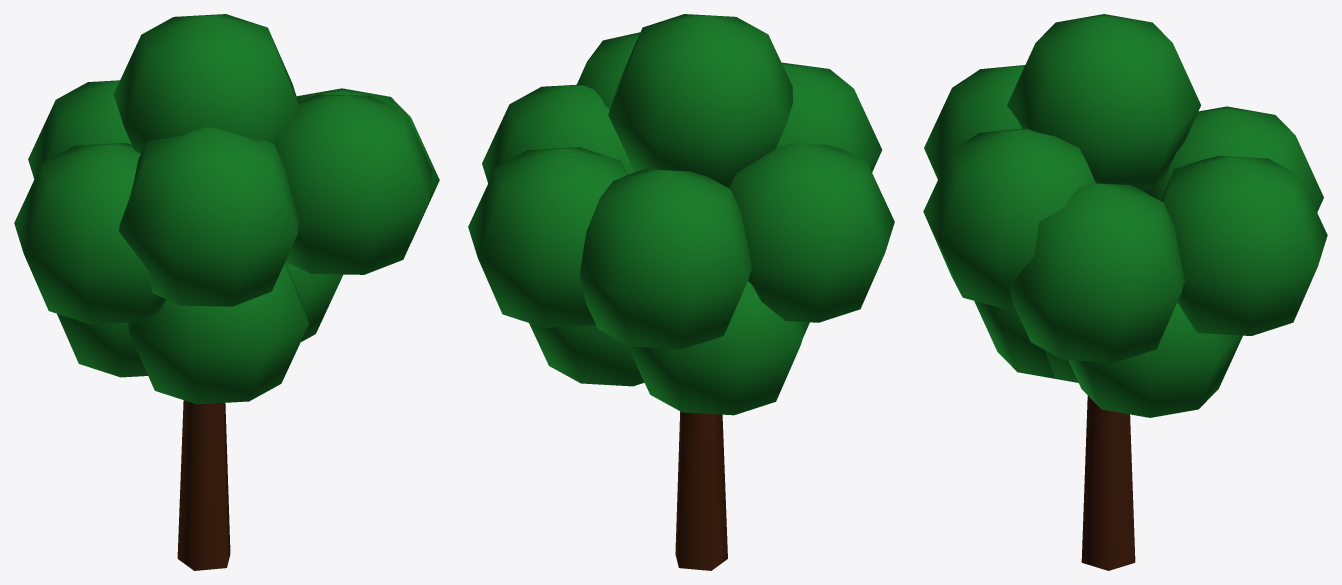
The model's file is ArvoreMario.FBX.
3 views of the same model, side by side, from view 1: azimuth 30°, elevation 25°; view 2: azimuth 150°, elevation 25°; view 3: azimuth 270°, elevation 25° (orthographic).
Parts seen in each view (by area): view 1: Sphere009, Cylinder013; view 2: Sphere009, Cylinder013; view 3: Sphere009, Cylinder013.
Boxes of the visible parts, bbox=[...] form: Sphere009: bbox=[14, 14, 439, 404]; Cylinder013: bbox=[177, 400, 230, 570]; Sphere009: bbox=[468, 14, 894, 415]; Cylinder013: bbox=[675, 411, 727, 570]; Sphere009: bbox=[923, 14, 1327, 417]; Cylinder013: bbox=[1081, 395, 1135, 570].
Bounding box in the file's own units: 288 × 378 × 256.
